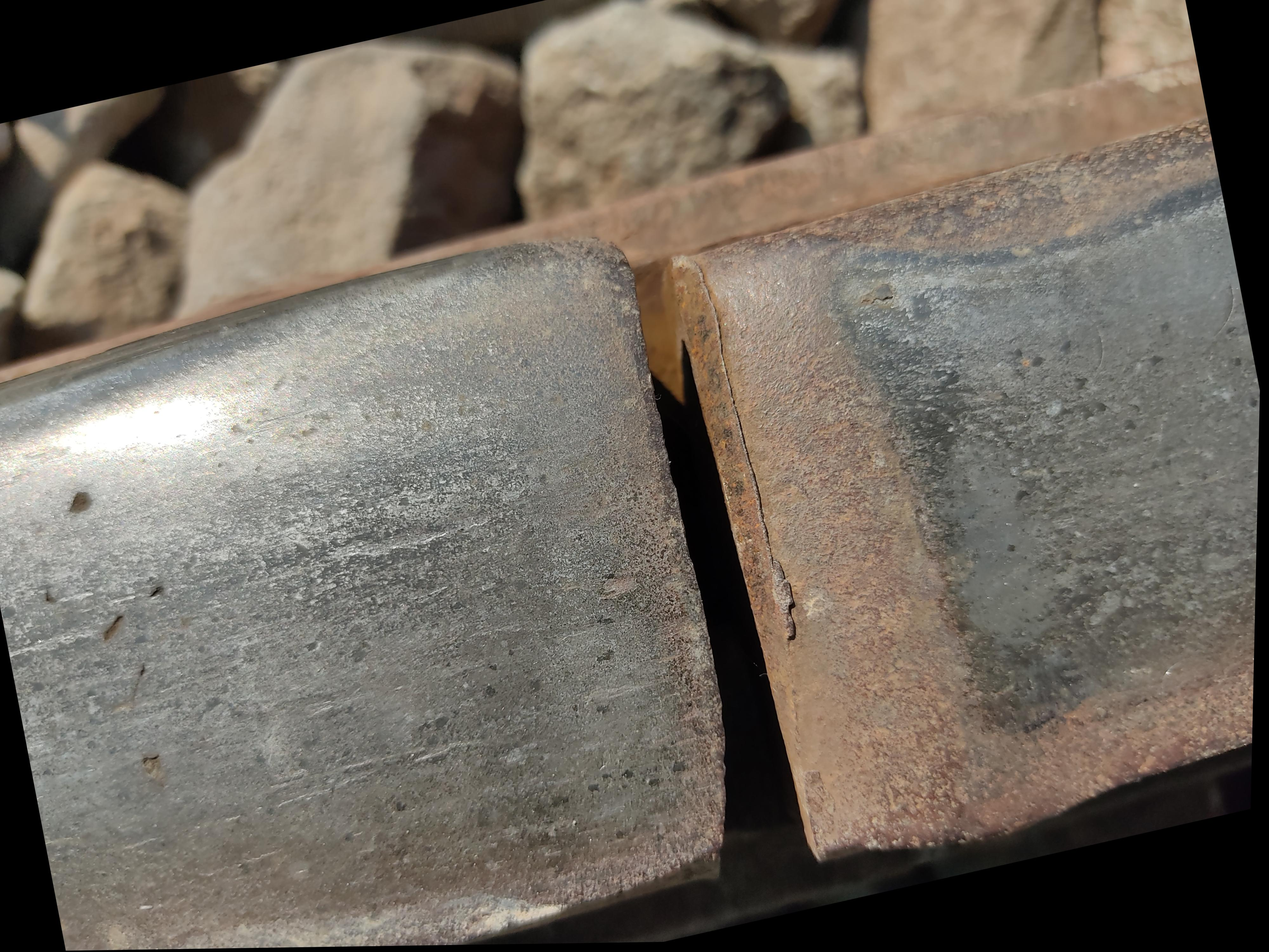person: (200, 244, 1071, 952)
